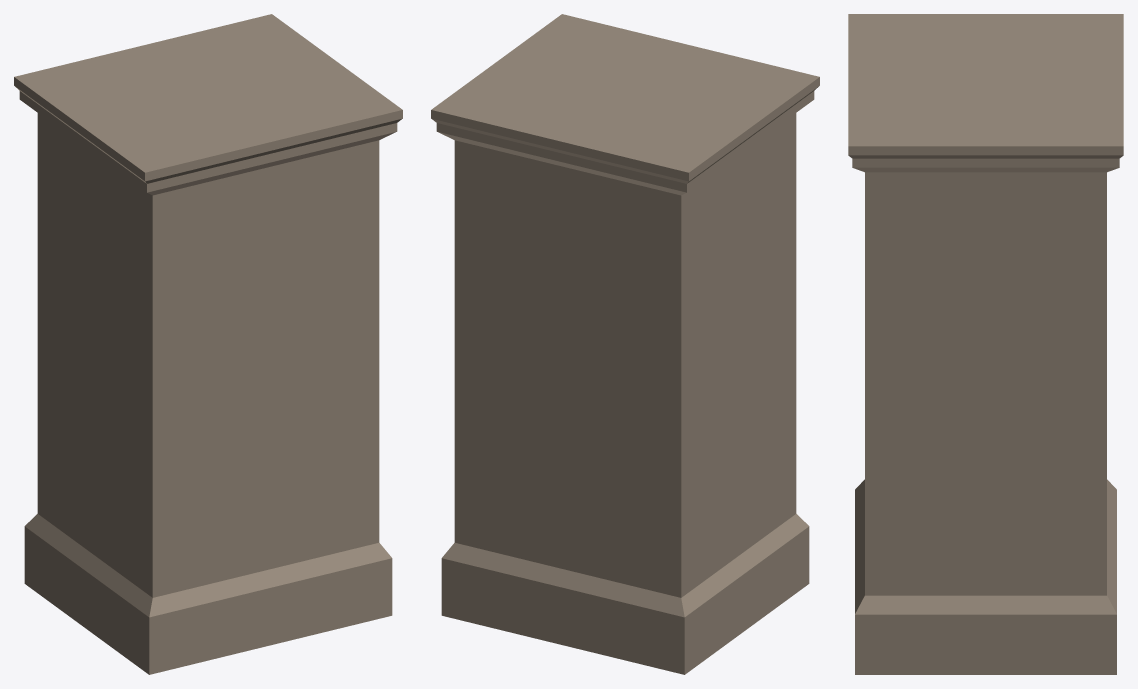
File: BC_InsidePillar_H.fbx
3 renders of one model, left to right at view 1: azimuth 30°, elevation 25°; view 2: azimuth 150°, elevation 25°; view 3: azimuth 270°, elevation 25°, orthographic. The views are drawn at different scales.
Visible parts, largest first — view 1: BC_InsidePillar_H; view 2: BC_InsidePillar_H; view 3: BC_InsidePillar_H.
Boxes of the visible parts, x1,y1,x2,y2 form: BC_InsidePillar_H: (14, 14, 402, 674); BC_InsidePillar_H: (431, 14, 819, 674); BC_InsidePillar_H: (848, 14, 1123, 674).
Size of the model in its own units: 217 by 407 by 191.
